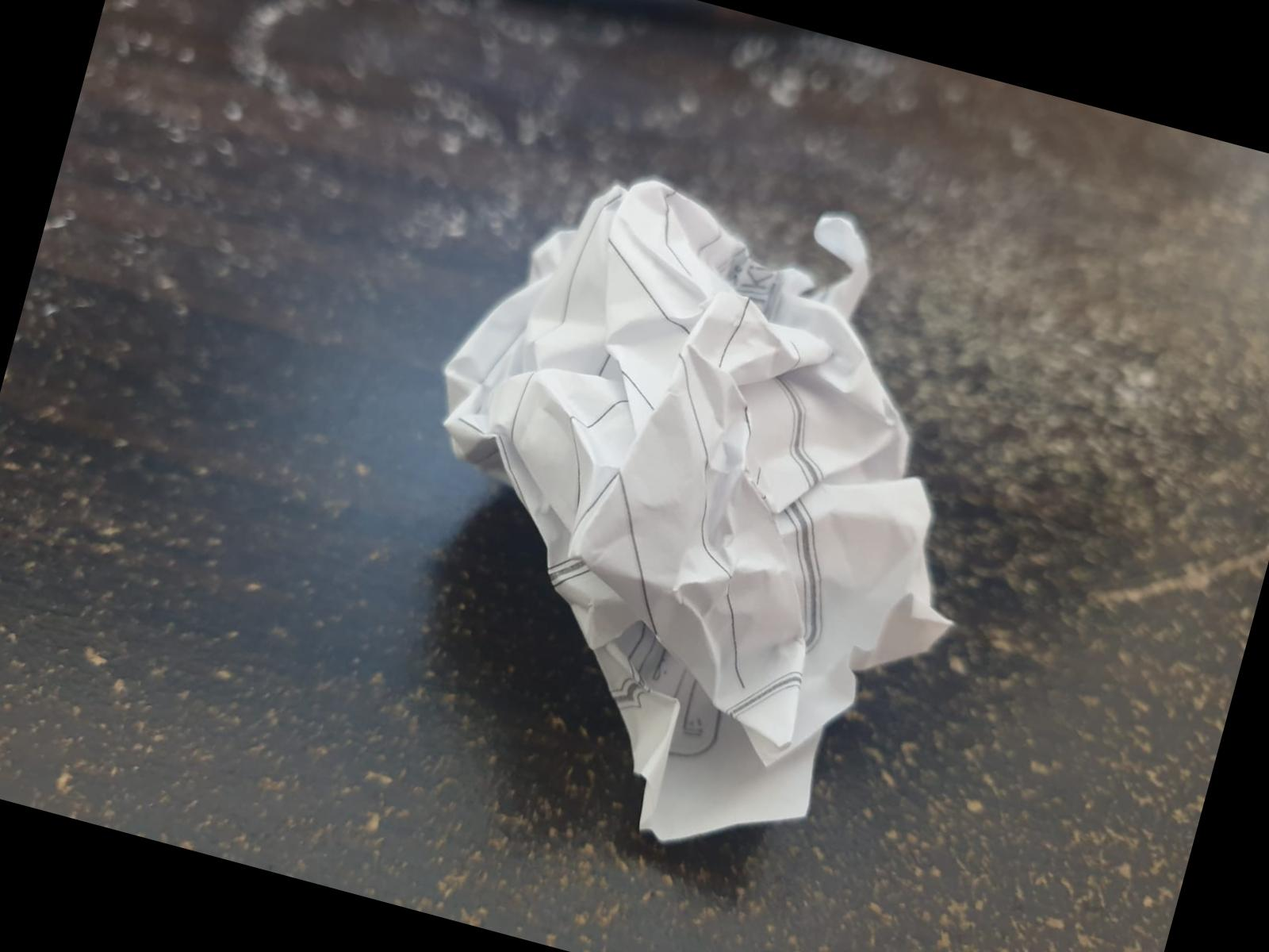Kertas: (453, 189, 948, 844)
